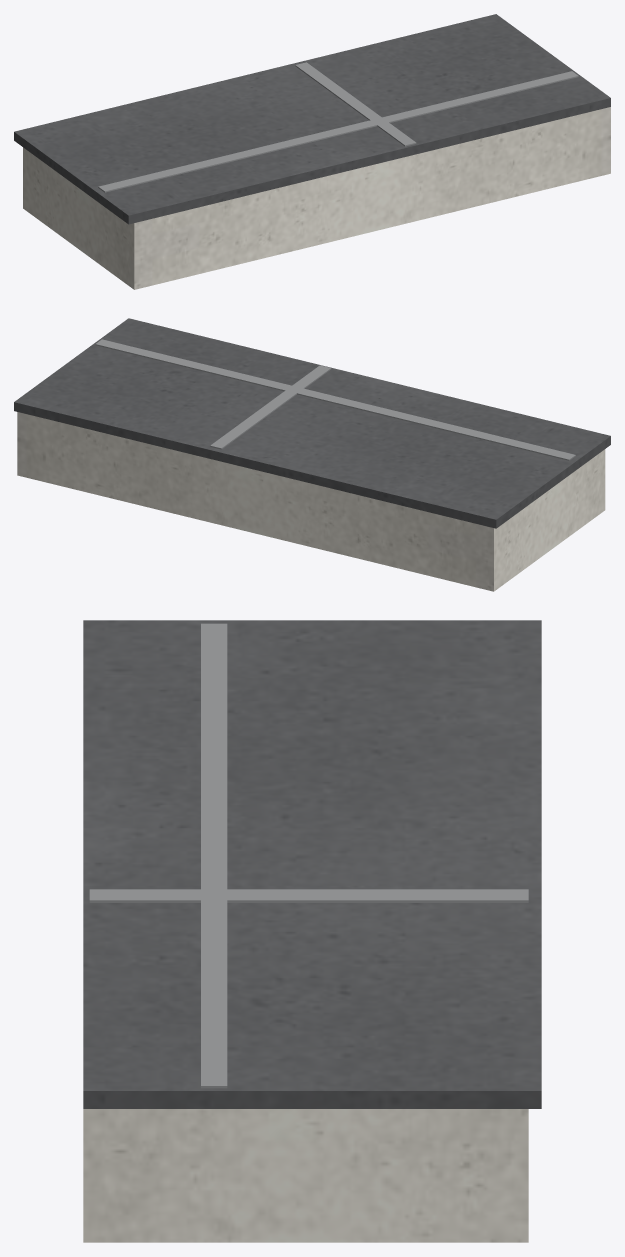
Rendered from floor_membrane_r_half_e0101.glb.
The picture shows the model from 3 angles, top to bottom: view 1: azimuth 30°, elevation 25°; view 2: azimuth 150°, elevation 25°; view 3: azimuth 270°, elevation 25°; orthographic projection. The views are drawn at different scales.
Visible parts, largest first — view 1: floor_membrane_r_half_e0101_membrane, floor_membrane_r_half_e0101_plaster, floor_membrane_r_half_e0101_seam; view 2: floor_membrane_r_half_e0101_membrane, floor_membrane_r_half_e0101_plaster, floor_membrane_r_half_e0101_seam; view 3: floor_membrane_r_half_e0101_membrane, floor_membrane_r_half_e0101_plaster, floor_membrane_r_half_e0101_seam.
Part boxes in pixels (x1=…): floor_membrane_r_half_e0101_membrane: x1=14, y1=14, x2=610, y2=224; floor_membrane_r_half_e0101_plaster: x1=23, y1=107, x2=610, y2=289; floor_membrane_r_half_e0101_seam: x1=98, y1=62, x2=578, y2=192; floor_membrane_r_half_e0101_membrane: x1=14, y1=318, x2=610, y2=528; floor_membrane_r_half_e0101_plaster: x1=17, y1=412, x2=605, y2=591; floor_membrane_r_half_e0101_seam: x1=95, y1=339, x2=575, y2=460; floor_membrane_r_half_e0101_membrane: x1=83, y1=620, x2=541, y2=1108; floor_membrane_r_half_e0101_plaster: x1=83, y1=1109, x2=528, y2=1242; floor_membrane_r_half_e0101_seam: x1=89, y1=623, x2=528, y2=1088.
Bounding box in the file's own units: 1.7 × 0.259 × 0.7.
Materials: 3 (2 with a texture image).
